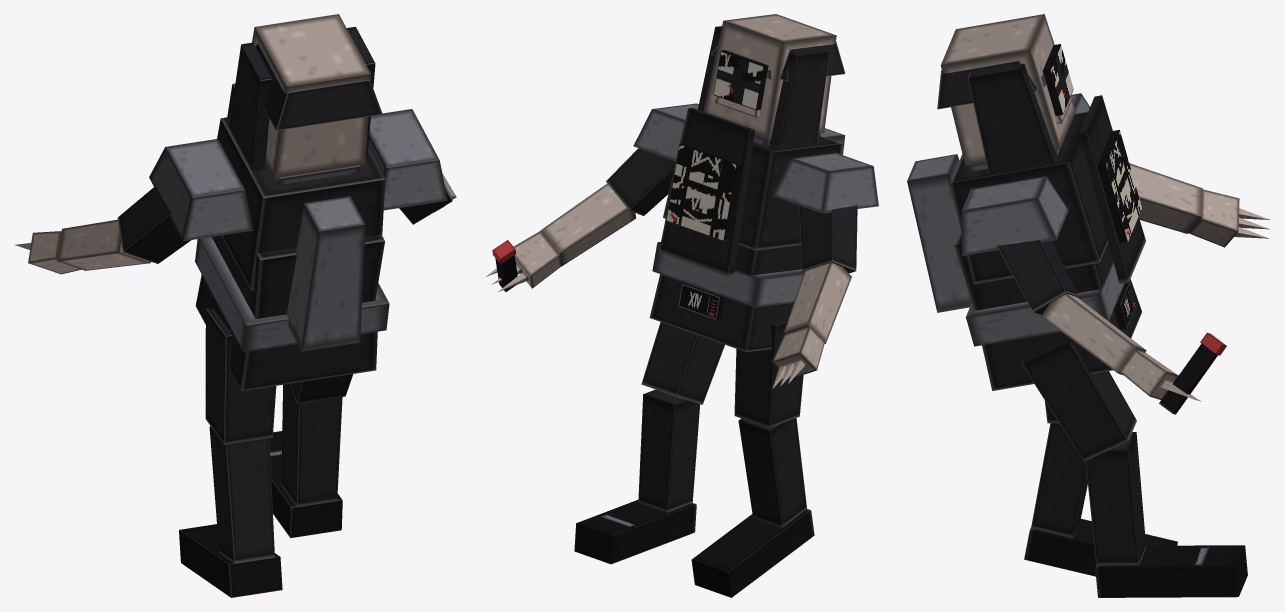
The model's file is redacth_death.obj.
The picture shows the model from 3 angles, left to right: view 1: azimuth 30°, elevation 25°; view 2: azimuth 150°, elevation 25°; view 3: azimuth 270°, elevation 25°; orthographic projection. The views are drawn at different scales.
Parts seen in each view (by area): view 1: redacth_death; view 2: redacth_death; view 3: redacth_death.
Boxes of the visible parts, x1,y1,x2,y2 form: redacth_death: (15,14,456,597); redacth_death: (486,14,878,597); redacth_death: (907,14,1269,597).
Size of the model in its own units: 0.7305 by 1.03 by 0.6084.
1 material, 1 textured.
